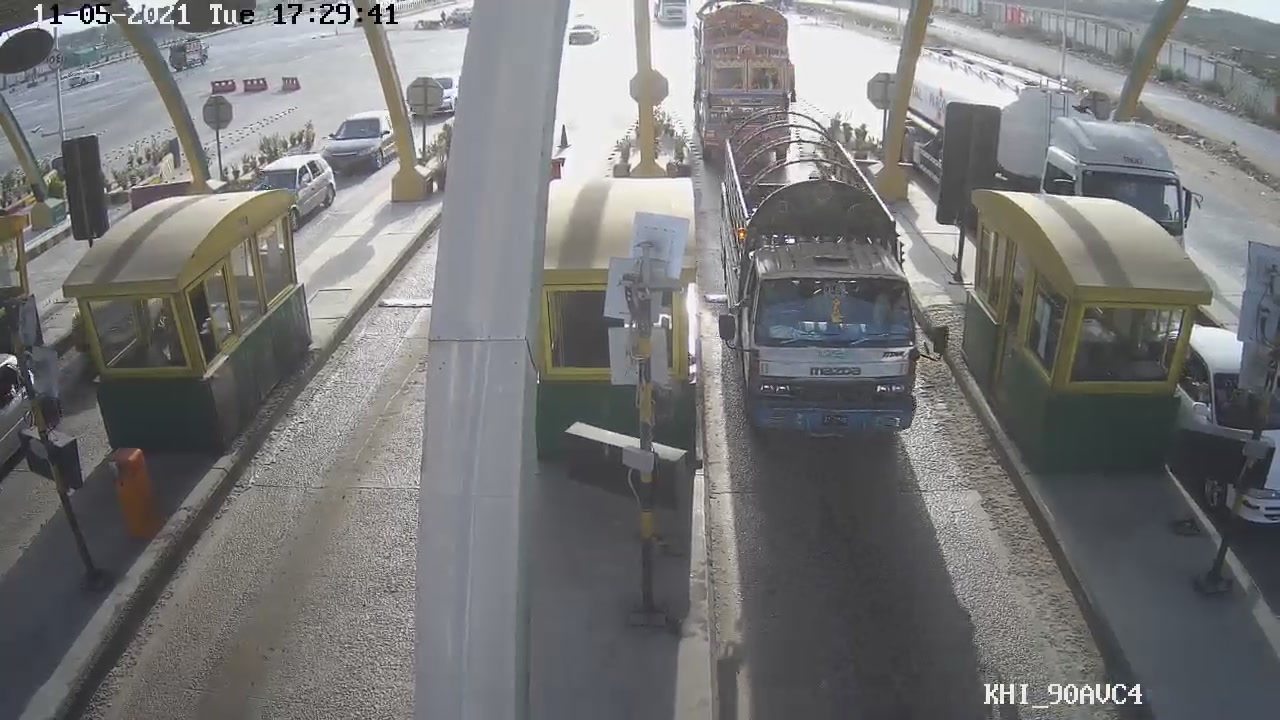F5: (703, 113, 923, 436)
